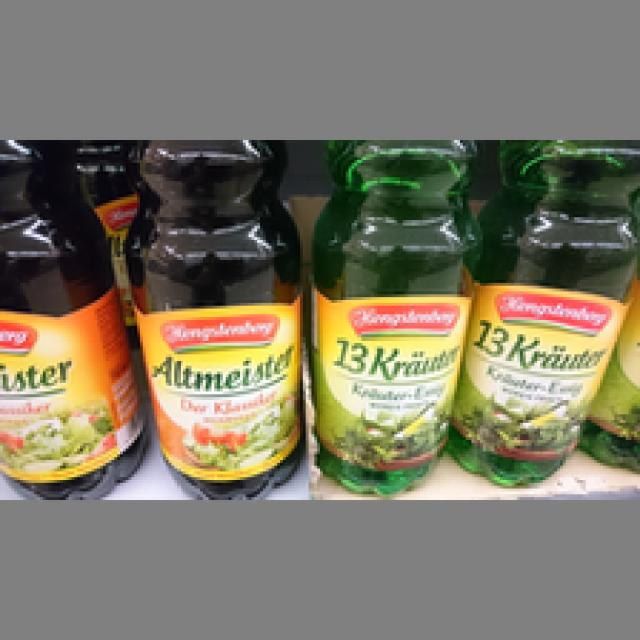groceries: (123, 140, 308, 494), (454, 137, 632, 483), (317, 140, 477, 497), (0, 139, 134, 494)
